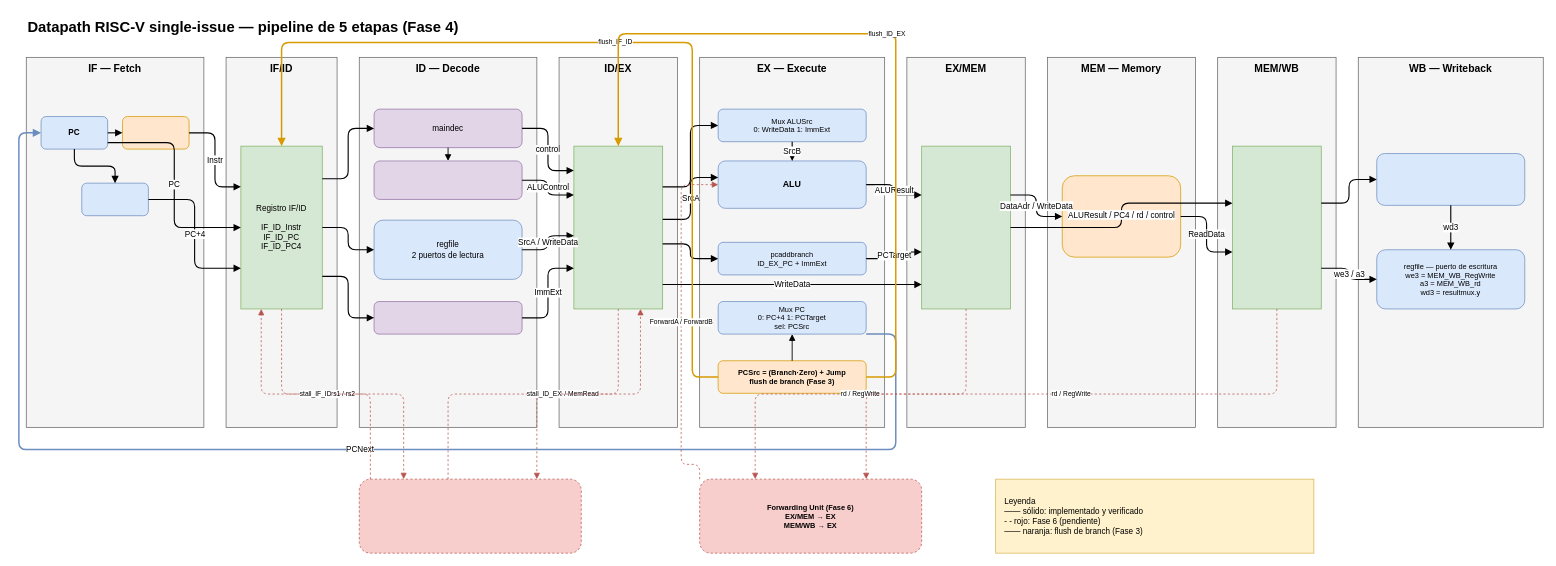
The diagram is 1556 pixels wide and 566 high, and some of its shapes have lost their labels. Here are the shapes that lost their labels. From the top down, the centre of each, then its label:
pixel 155 132: imem
pixel 114 199: PC + 4
pixel 447 179: aludec
pixel 1450 179: resultmux (mux3) 00: ALUResult 01: ReadData 10: PC4
pixel 618 227: Registro ID/EX SrcA WriteData ImmExt PC, PC4 rs1, rs2, rd control
pixel 965 227: Registro EX/MEM ALUResult Zero WriteData rd, PC4 PCTarget control
pixel 1121 216: dmem lectura / escritura
pixel 1276 227: Registro MEM/WB ReadData ALUResult PC4 rd RegWrite ResultSrc
pixel 447 317: extend
pixel 470 515: Hazard Unit (Fase 6) detección de load-use stall_IF_ID / stall_ID_EX
